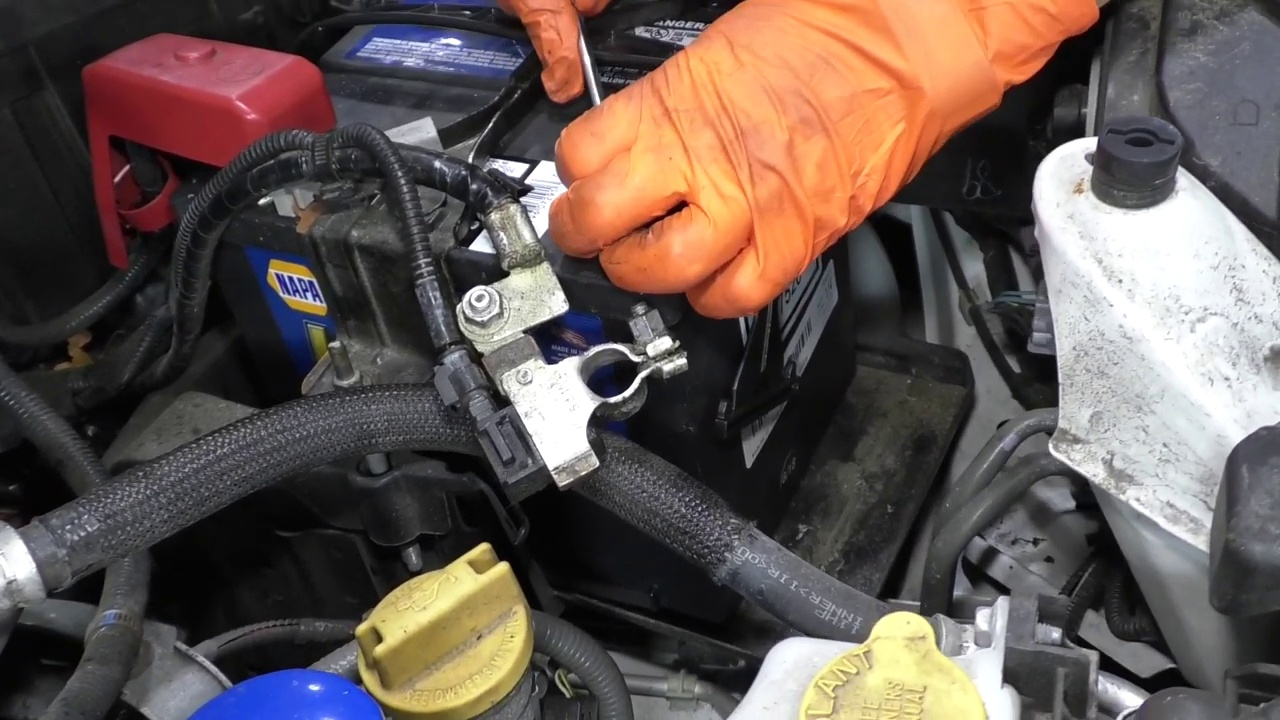battery: (225, 9, 702, 308)
pos_connected: (76, 22, 351, 281)
